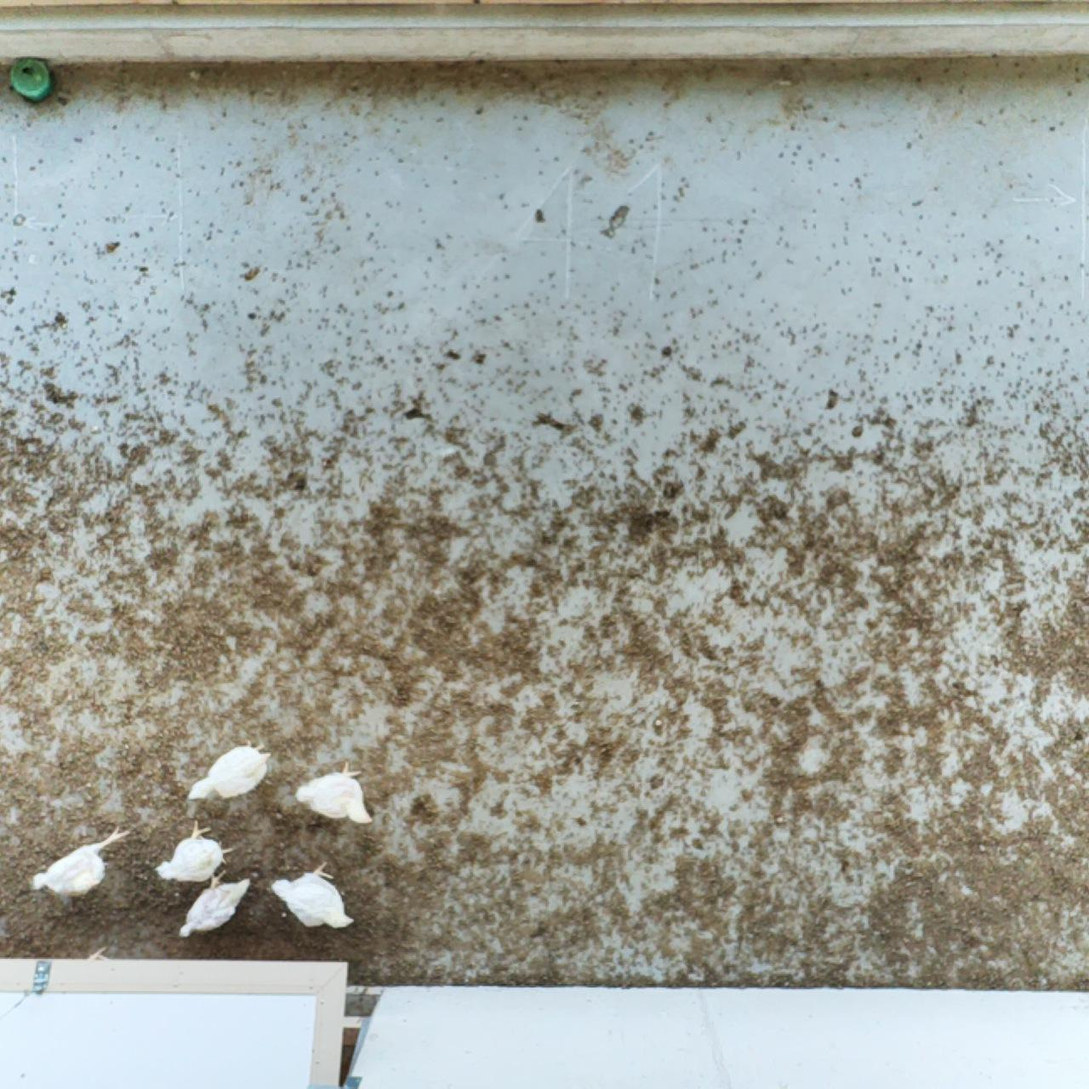chicken: (28, 822, 133, 908), (266, 855, 358, 933), (182, 735, 275, 808), (174, 865, 253, 946), (292, 756, 376, 830), (152, 815, 235, 888)
